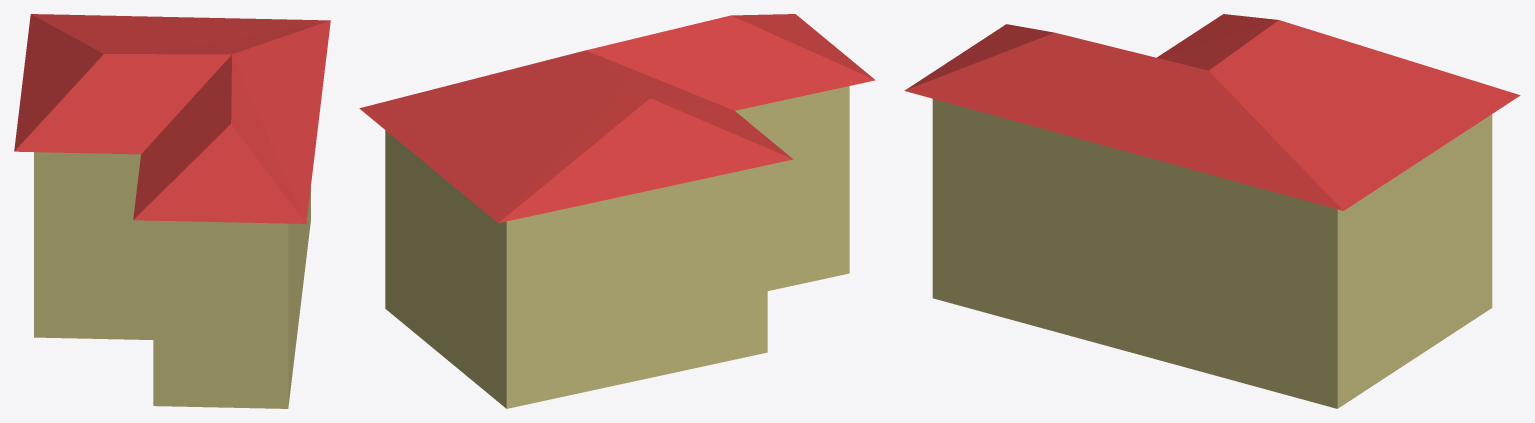
3 views of the same model, side by side, from view 1: azimuth 30°, elevation 25°; view 2: azimuth 150°, elevation 25°; view 3: azimuth 270°, elevation 25° (orthographic). The views are drawn at different scales.
Parts seen in each view (by area): view 1: group_3, group_5, group_4; view 2: group_5, group_3, group_4; view 3: group_5, group_3, group_4.
Part boxes in pixels (bbox=[...]): group_3: bbox=[14, 14, 330, 223]; group_5: bbox=[34, 152, 310, 408]; group_4: bbox=[14, 20, 330, 223]; group_5: bbox=[385, 86, 849, 408]; group_3: bbox=[359, 14, 875, 223]; group_4: bbox=[360, 14, 865, 185]; group_5: bbox=[932, 99, 1492, 408]; group_3: bbox=[905, 14, 1520, 210]; group_4: bbox=[904, 14, 1343, 210].
Bounding box in the file's own units: 16.92 × 22.38 × 10.62.
